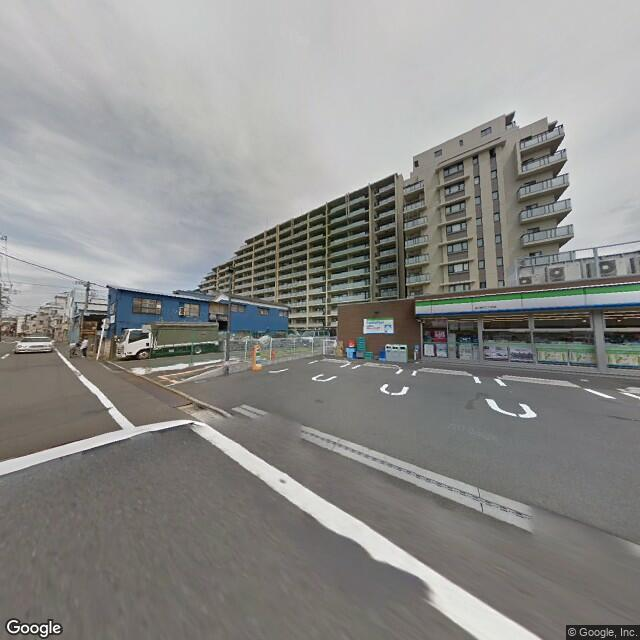family_mart: (412, 281, 639, 321)
